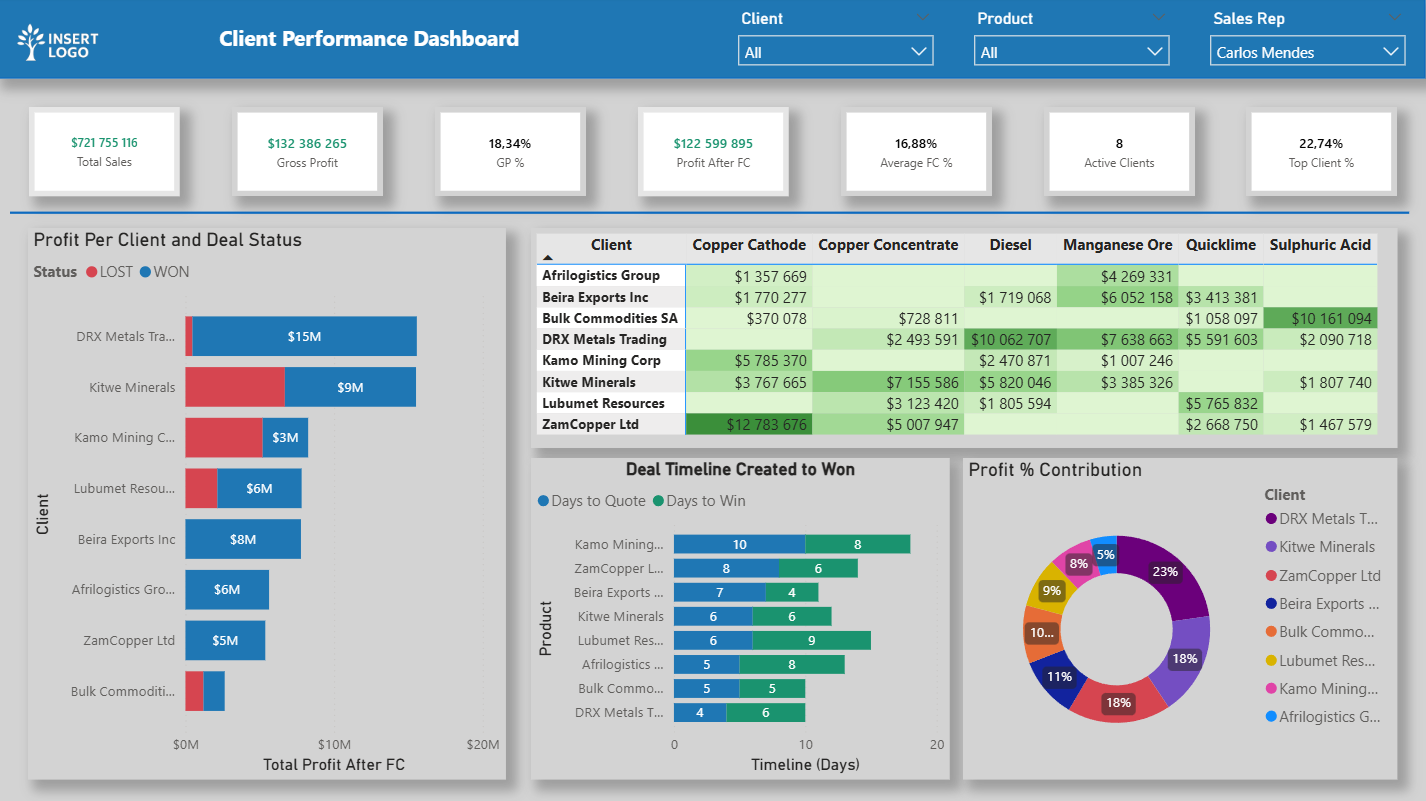

This screenshot's page, from the dashboard's own definition file:
{"tool":"powerbi","page":{"name":"Client Performance","canvas":[1280,720],"ordinal":2},"visuals":[{"type":"cardVisual","fields":{"Data":["Measure_Tbl.GP %"]},"box":[393,98.5,135,80.1],"z":0},{"type":"cardVisual","fields":{"Data":["Measure_Tbl.Active Clients"]},"box":[938.1,98.5,135,80.1],"z":1000},{"type":"cardVisual","fields":{"Data":["Measure_Tbl.Total Gross Profit"]},"box":[211.3,98.5,135,80.1],"z":2000},{"type":"slicer","fields":{"Values":["client.client_name"]},"box":[654.6,5.8,194.5,61.3],"z":3000,"group":"g1"},{"type":"cardVisual","fields":{"Data":["Measure_Tbl.Average PFC"]},"box":[756.4,98.5,135,80.1],"z":3000},{"type":"slicer","fields":{"Values":["product.product_name"]},"box":[866.2,5.8,194.5,61.3],"z":4000,"group":"g1"},{"type":"cardVisual","fields":{"Data":["Measure_Tbl.Total Sales"]},"box":[29.5,98.5,135.4,80.1],"z":4000},{"type":"slicer","fields":{"Values":["sales_rep.sales_rep_name"]},"box":[1077.7,5.8,194.5,61.3],"z":5000,"group":"g1"},{"type":"cardVisual","fields":{"Data":["Measure_Tbl.Total Profit After FC"]},"box":[574.7,98.5,135,80.1],"z":5000},{"type":"cardVisual","fields":{"Data":["Measure_Tbl.Top Client Contribution"]},"box":[1119.8,98.5,135,80.1],"z":6000},{"type":"shape","box":[12.9,186,1253.3,13.8],"z":7000},{"type":"shape","title":"12-Week Rolling Cashflow Dashboard.","box":[0,0,1280,72.9],"z":8000},{"type":"group","id":"g1","title":"Group 1","box":[654.6,5.8,617.6,61.3],"z":9000},{"type":"image","box":[0,0,110,85],"z":10000},{"type":"barChart","title":"Profit Per Client and Deal Status","fields":{"Category":["client.client_name"],"Y":["Measure_Tbl.Total Profit After FC"],"Series":["deal_status.status_code"]},"box":[28.8,207.2,428.2,493.8],"z":11000},{"type":"pivotTable","fields":{"Rows":["client.client_name"],"Columns":["product.product_name"],"Values":["Sum(deal.profit_after_fc)"]},"box":[478.8,207.2,775.8,196.8],"z":12000},{"type":"barChart","title":"Deal Timeline Created to Won","fields":{"Y":["Measure_Tbl.Days to Quote","Measure_Tbl.Days to Win"],"Category":["client.client_name"]},"box":[478.8,413.2,375.3,287.8],"z":13000},{"type":"donutChart","title":"Profit % Contribution","fields":{"Category":["client.client_name"],"Y":["Sum(deal.profit_after_fc)"]},"box":[865.6,413.2,389.1,287.8],"z":14000}]}

Visuals, with their boxes in screenshot pixels (x1, y1, x2, y2), scaled from the page's 1280x720 canvas onto the 1426x801 screenshot:
cardVisual - Measure_Tbl.GP %: 438:110:588:199
cardVisual - Measure_Tbl.Active Clients: 1045:110:1196:199
cardVisual - Measure_Tbl.Total Gross Profit: 235:110:386:199
slicer - client.client_name: 729:6:946:75
cardVisual - Measure_Tbl.Average PFC: 843:110:993:199
slicer - product.product_name: 965:6:1182:75
cardVisual - Measure_Tbl.Total Sales: 33:110:184:199
slicer - sales_rep.sales_rep_name: 1201:6:1417:75
cardVisual - Measure_Tbl.Total Profit After FC: 640:110:791:199
cardVisual - Measure_Tbl.Top Client Contribution: 1248:110:1398:199
shape: 14:207:1411:222
"12-Week Rolling Cashflow Dashboard." shape: 0:0:1425:81
"Group 1" group: 729:6:1417:75
image: 0:0:123:95
"Profit Per Client and Deal Status" barChart: 32:231:509:780
pivotTable - client.client_name x product.product_name: 533:231:1398:449
"Deal Timeline Created to Won" barChart: 533:460:952:780
"Profit % Contribution" donutChart: 964:460:1398:780
